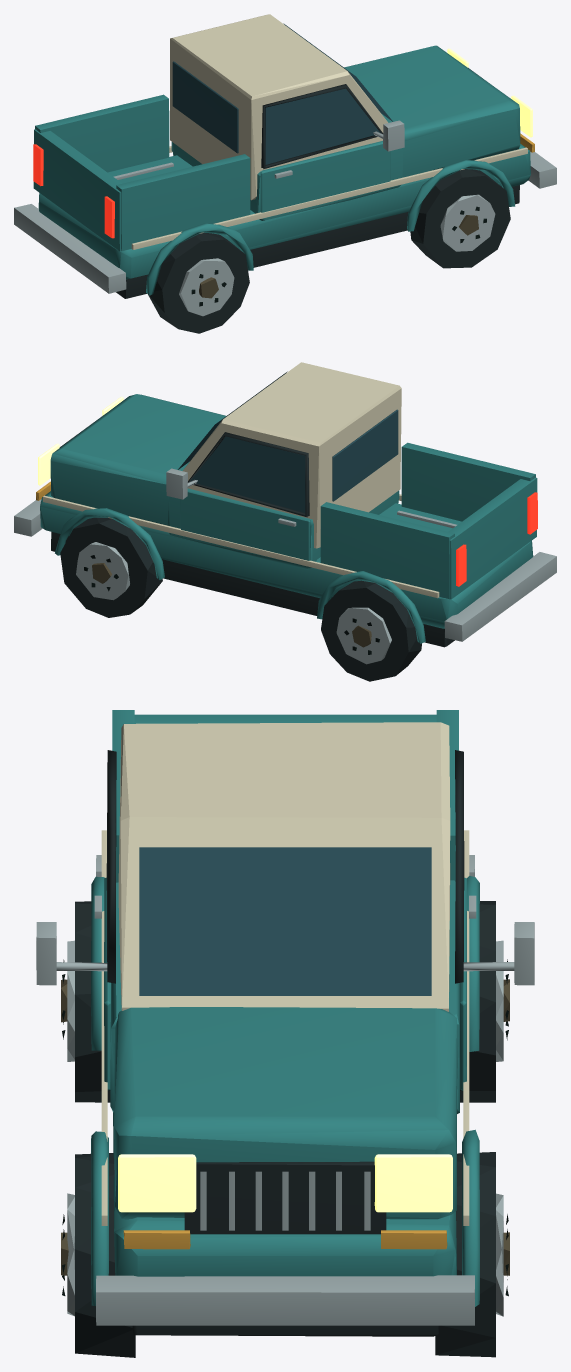
Rendered from truck-vlow.glb.
The picture shows the model from 3 angles, top to bottom: view 1: azimuth 30°, elevation 25°; view 2: azimuth 150°, elevation 25°; view 3: azimuth 270°, elevation 25°; orthographic projection. The views are drawn at different scales.
Visible parts, largest first — view 1: TRUCK; view 2: TRUCK; view 3: TRUCK.
Boxes of the visible parts, left/top/right/bottom form: TRUCK: left=14, top=14, right=556, bottom=333; TRUCK: left=14, top=362, right=556, bottom=681; TRUCK: left=36, top=710, right=534, bottom=1357.
Bounding box in the file's own units: 2.9 × 1.32 × 1.4.
